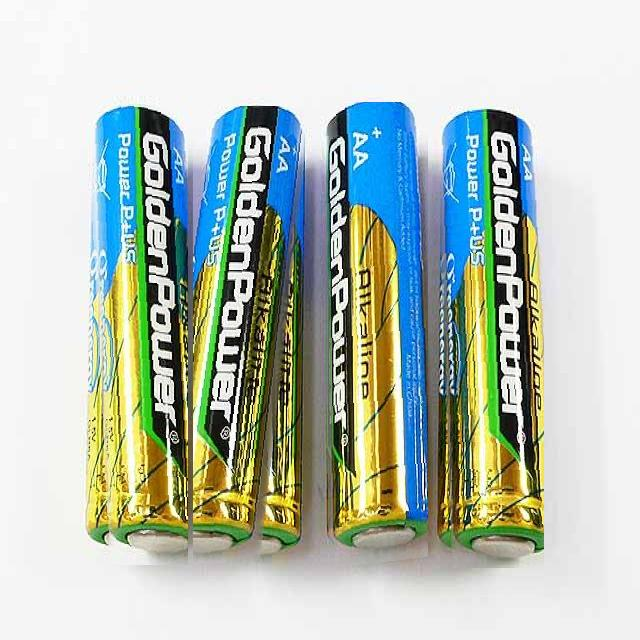battery: (193, 106, 311, 564), (435, 104, 544, 568), (322, 102, 428, 568), (86, 95, 188, 566)
